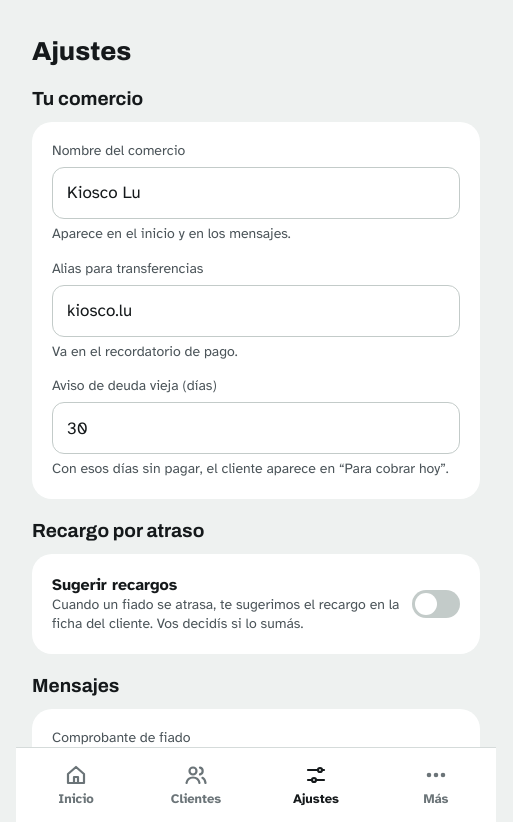
Test: Ajustes › carga, edita y guarda; "Volver al mensaje original" vacía la plantilla
Replace the text in the field labelled "Nombre del comercio" with "Almacén Rosa" at coordinates (256, 193), box [52,167,460,219]
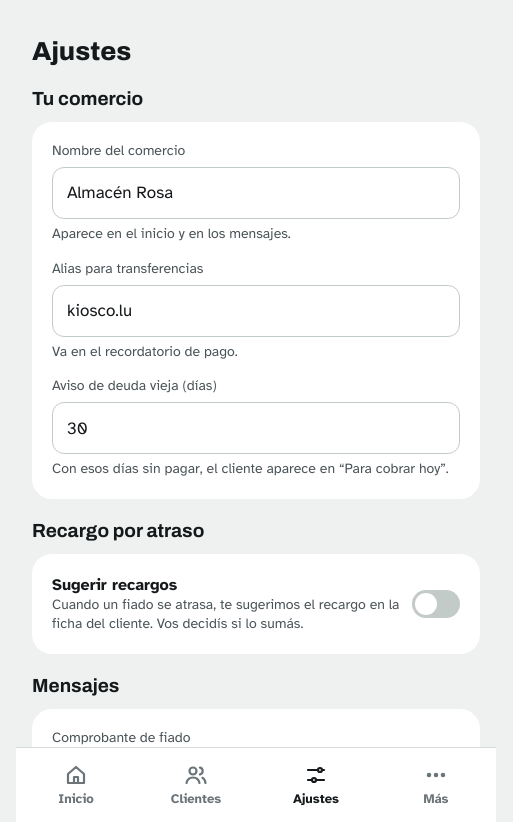
Replace the text in the field labelled "Aviso de deuda vieja (días)" with "45 días" at coordinates (256, 428), box [52,402,460,454]
(page scrolled)
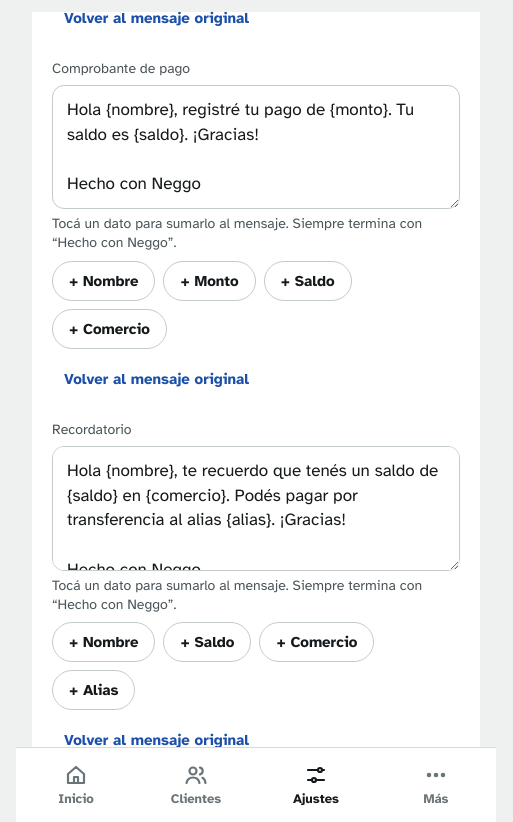
Click the button "Volver al mensaje original" below "Comprobante de pago" at coordinates (156, 379), box [52,357,261,401]
(page scrolled)
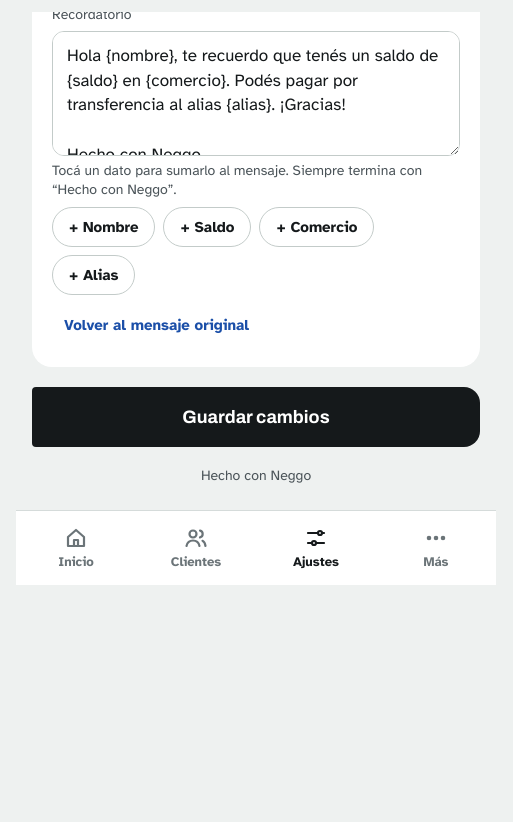
Click the button "Guardar cambios" at coordinates (256, 418), box [32,388,480,448]
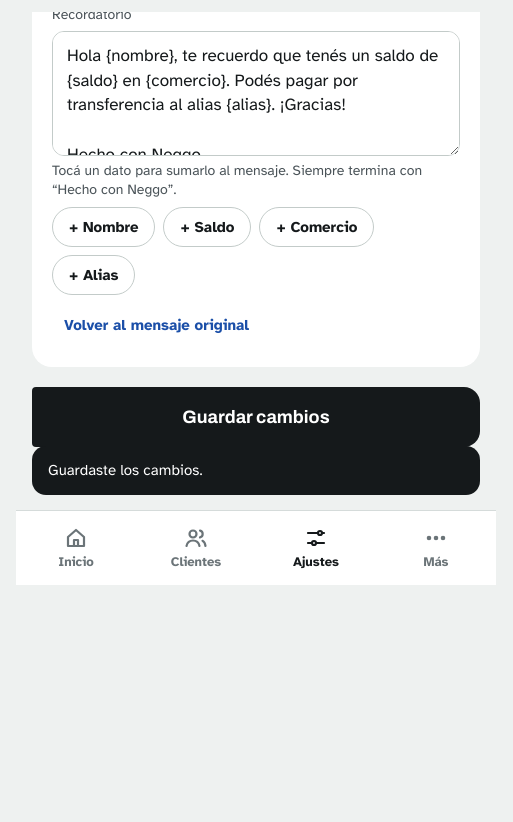
expect the element with test id "toast-region" reads "Guardaste los cambios.": met, box [48,461,202,479]
